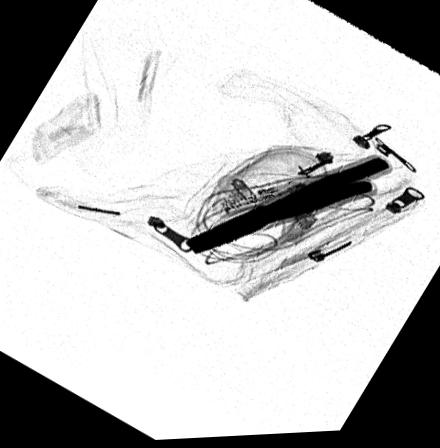Pliers: (180, 155, 400, 258)
